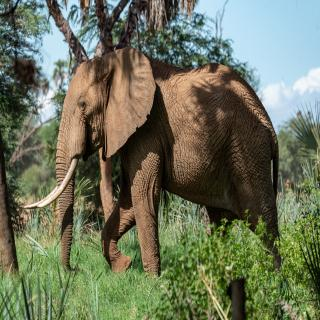Elephant: (22, 45, 288, 279)
